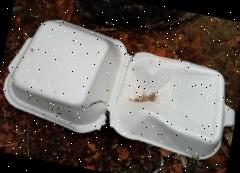general: (0, 10, 240, 165)
